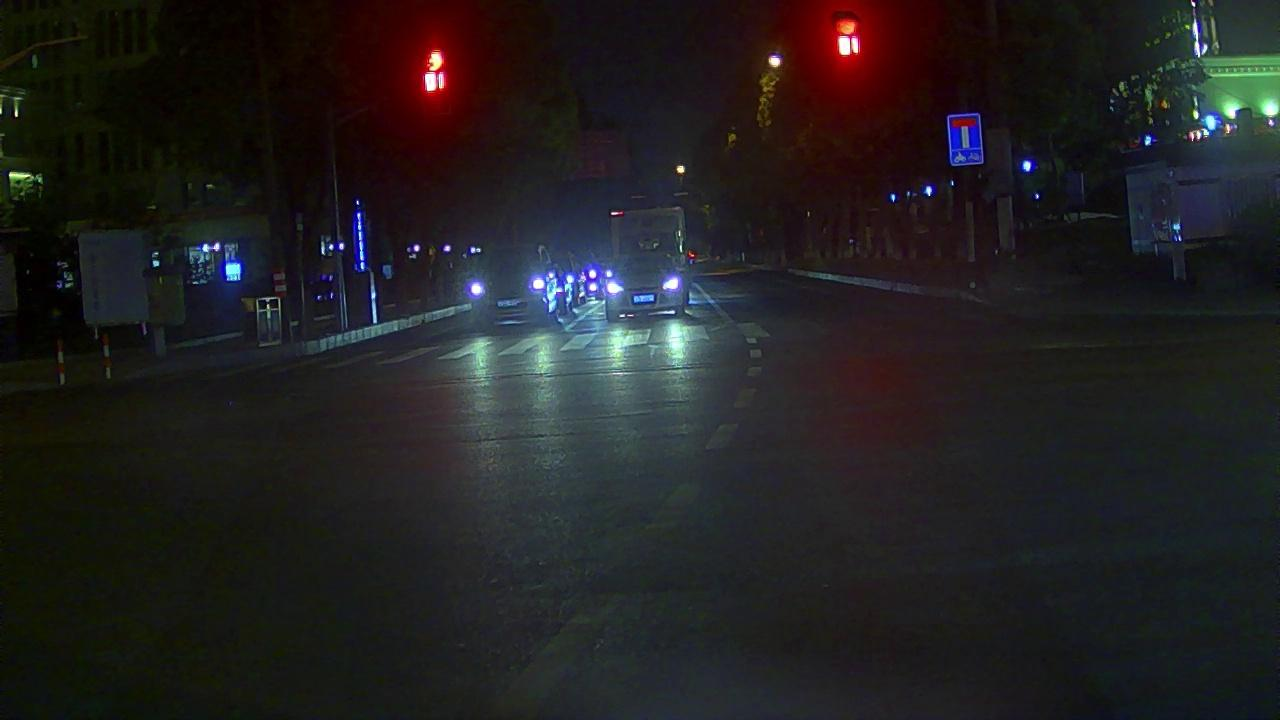traffic_light: (830, 12, 866, 63), (420, 43, 450, 99)
